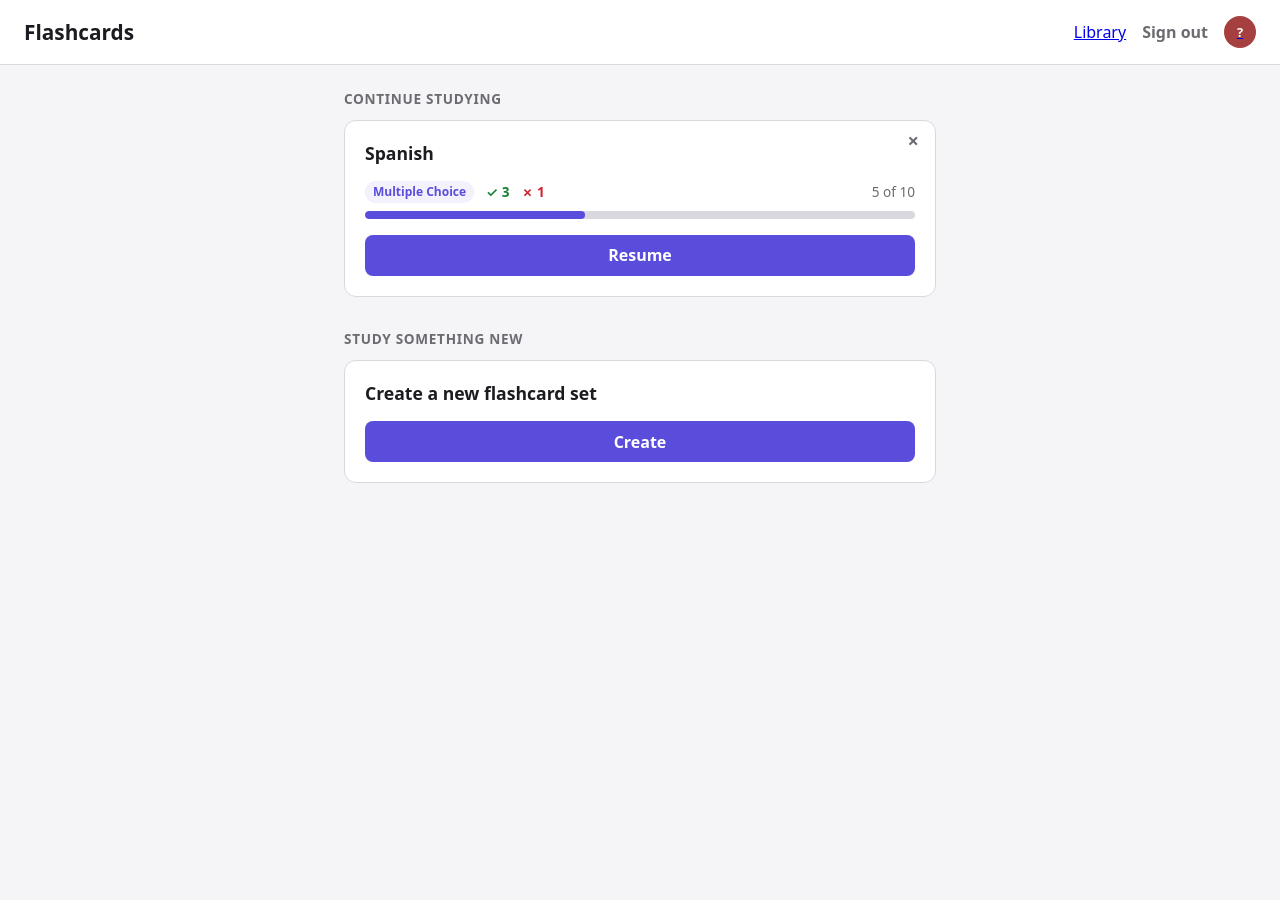
Test: HomePage › removes a session after confirming, and deletes it via the api
This screenshot has width=1280, height=900.
Expected: the text "Spanish" is shown, x1=365 y1=141 x2=434 y2=165
What coordinates should you click on to do the following:
click the button named "Remove practice session"
I would click on:
 (913, 141)
Its box is x1=900 y1=129 x2=927 y2=152.
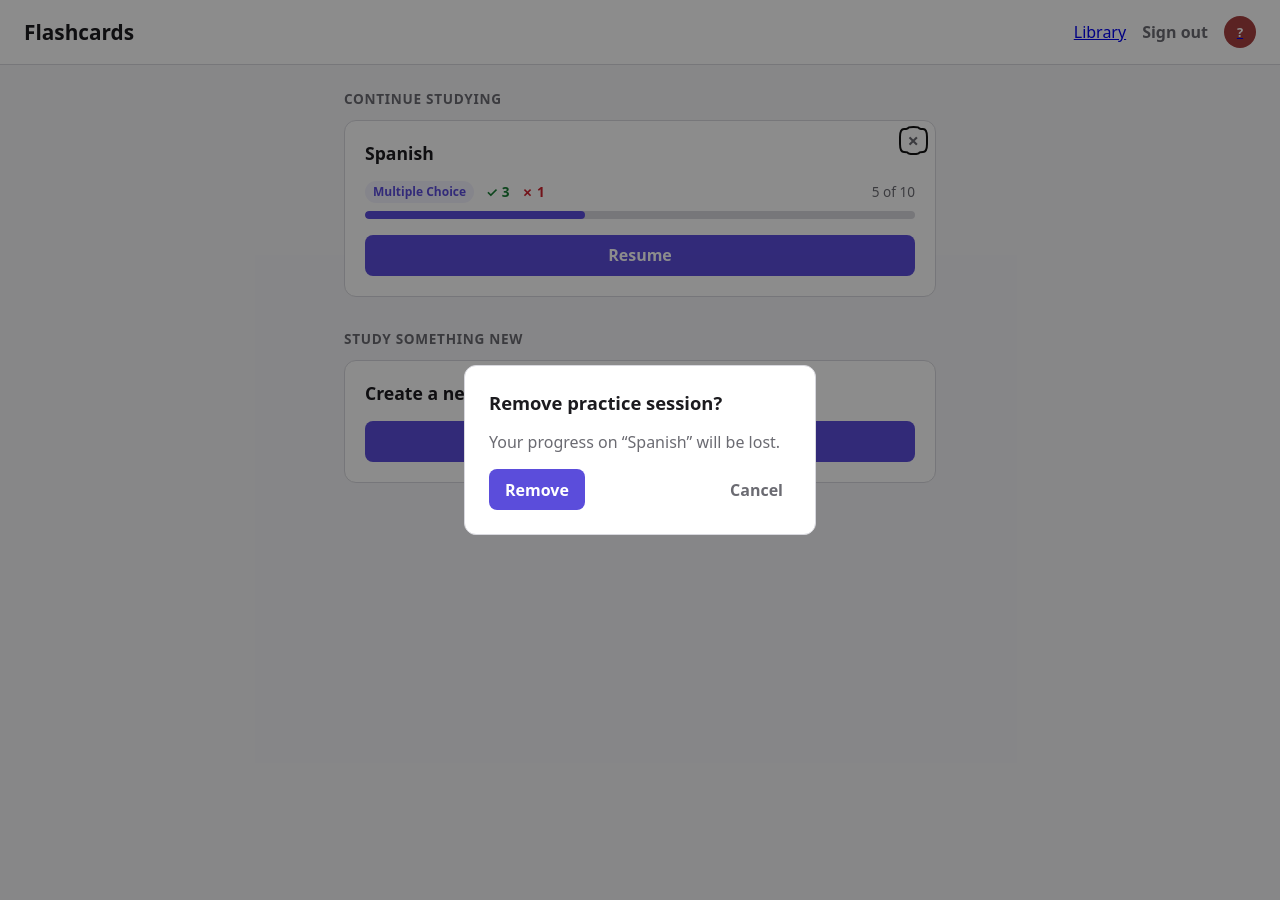
Expected: the heading "Remove practice session?" is shown, x1=489 y1=390 x2=722 y2=415
What coordinates should you click on to do the following:
click the button "Remove"
I would click on:
 (537, 490)
Its box is x1=489 y1=469 x2=585 y2=510.
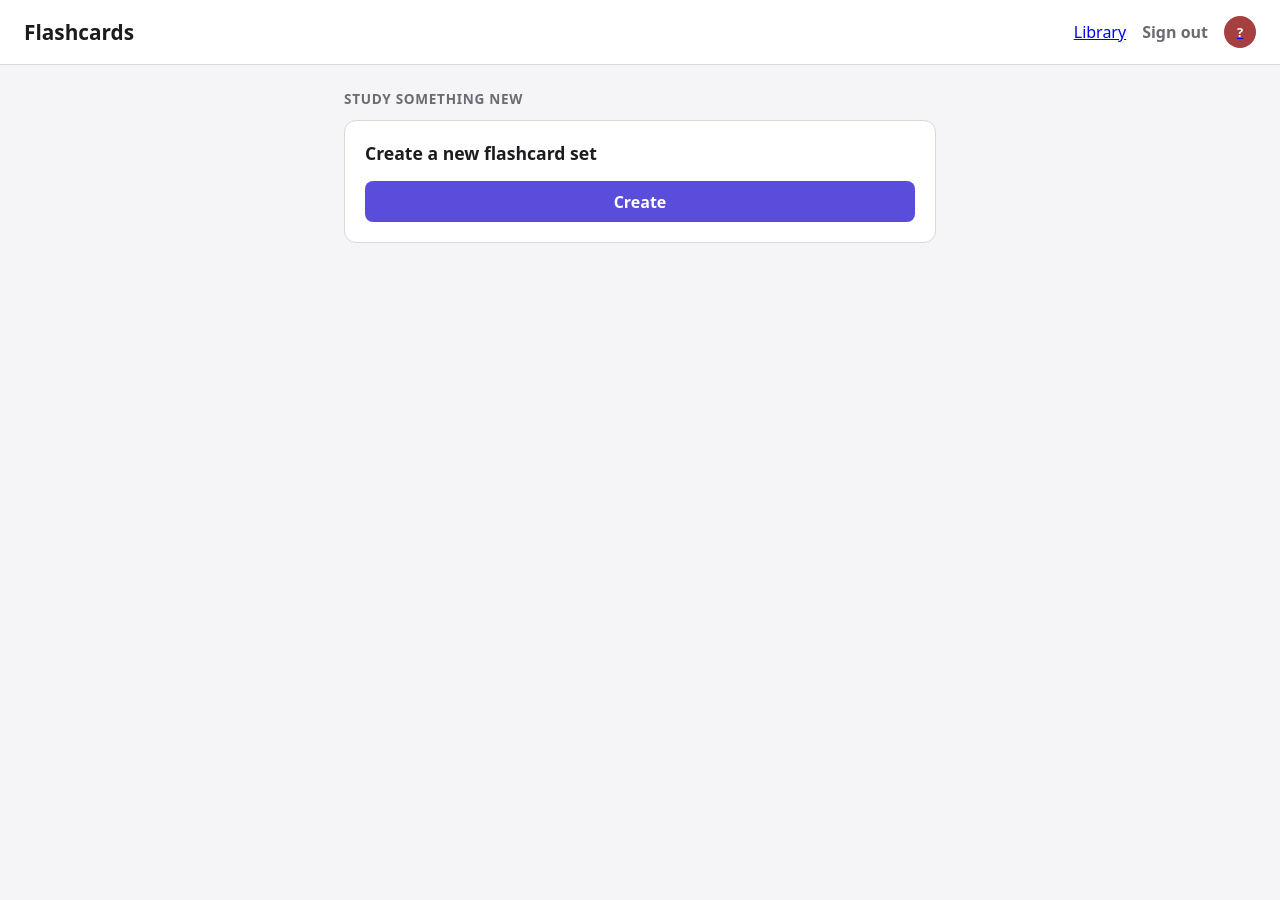
Expected: the text "Spanish" is gone
Expected: the text "Create a new flashcard set" is shown, x1=365 y1=141 x2=597 y2=165
